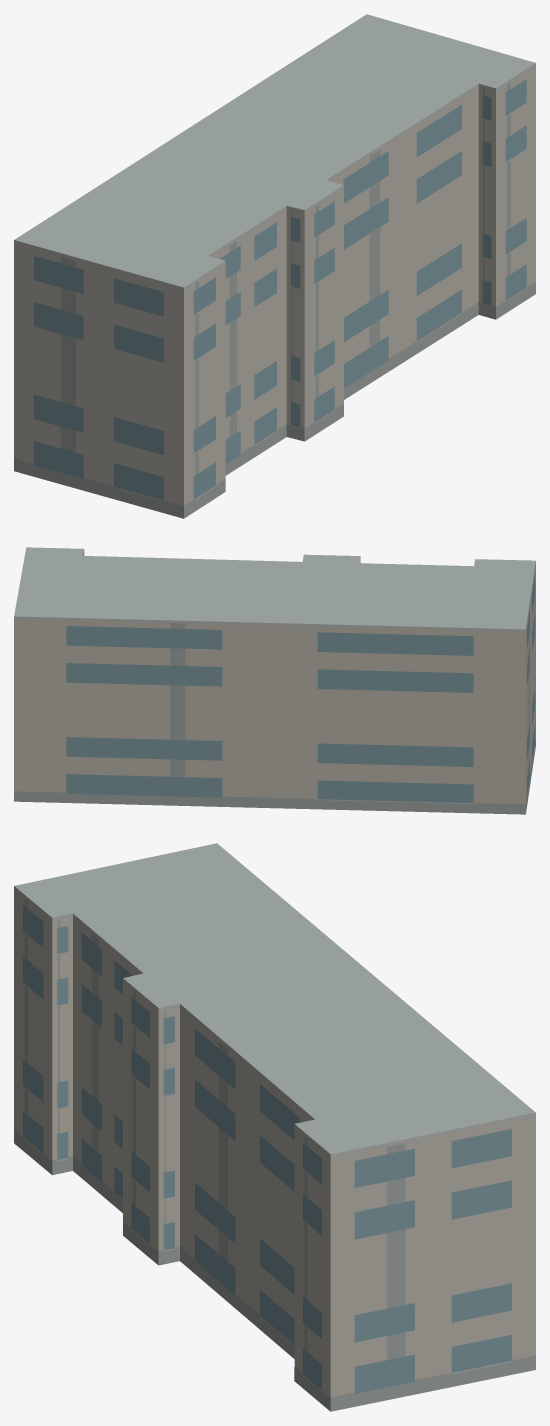
File: survey-upis-32800750.glb
3 views of the same model, one above another, from view 1: azimuth 30°, elevation 25°; view 2: azimuth 150°, elevation 25°; view 3: azimuth 270°, elevation 25° (orthographic). The views are drawn at different scales.
Visible parts, largest first — view 1: survey-upis-32800750.tmp; view 2: survey-upis-32800750.tmp; view 3: survey-upis-32800750.tmp.
Boxes of the visible parts, x1,y1,x2,y2 form: survey-upis-32800750.tmp: [14, 14, 535, 518]; survey-upis-32800750.tmp: [14, 547, 535, 814]; survey-upis-32800750.tmp: [14, 843, 535, 1411].
Bounding box in the file's own units: 41.49 × 16 × 29.41.
